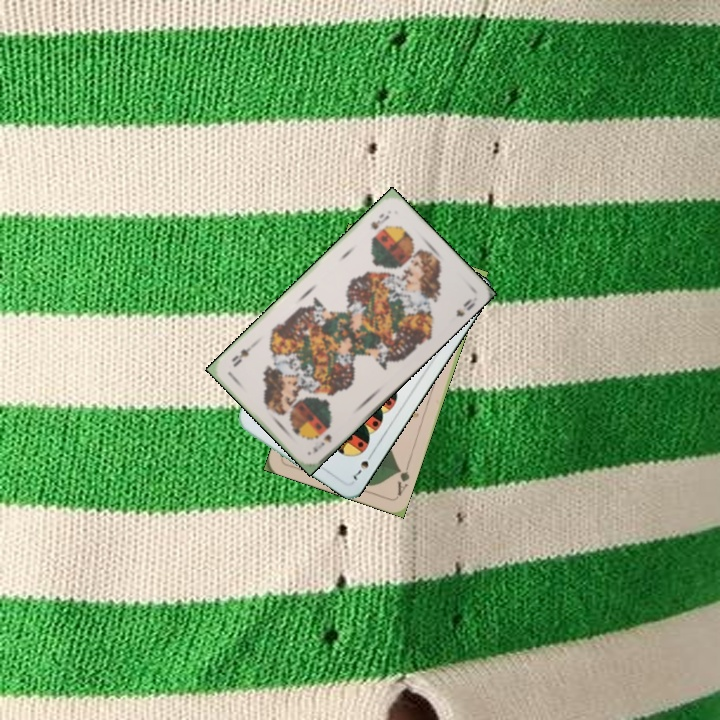GA: (393, 459, 412, 498)
S7: (349, 448, 376, 483)
SO: (309, 430, 334, 455), (366, 209, 392, 232)
